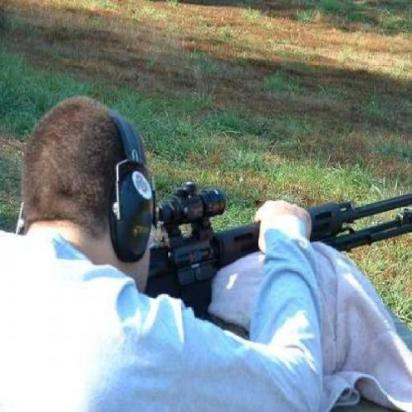Gun: (119, 162, 411, 305)
